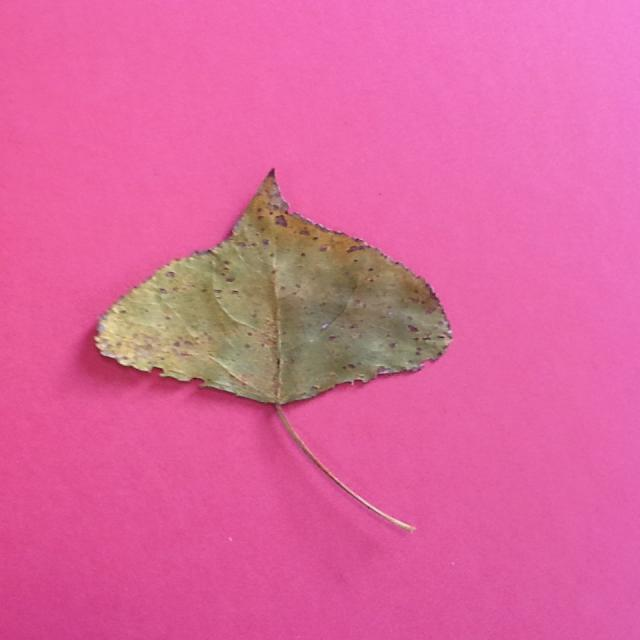foliage: (91, 165, 458, 542)
